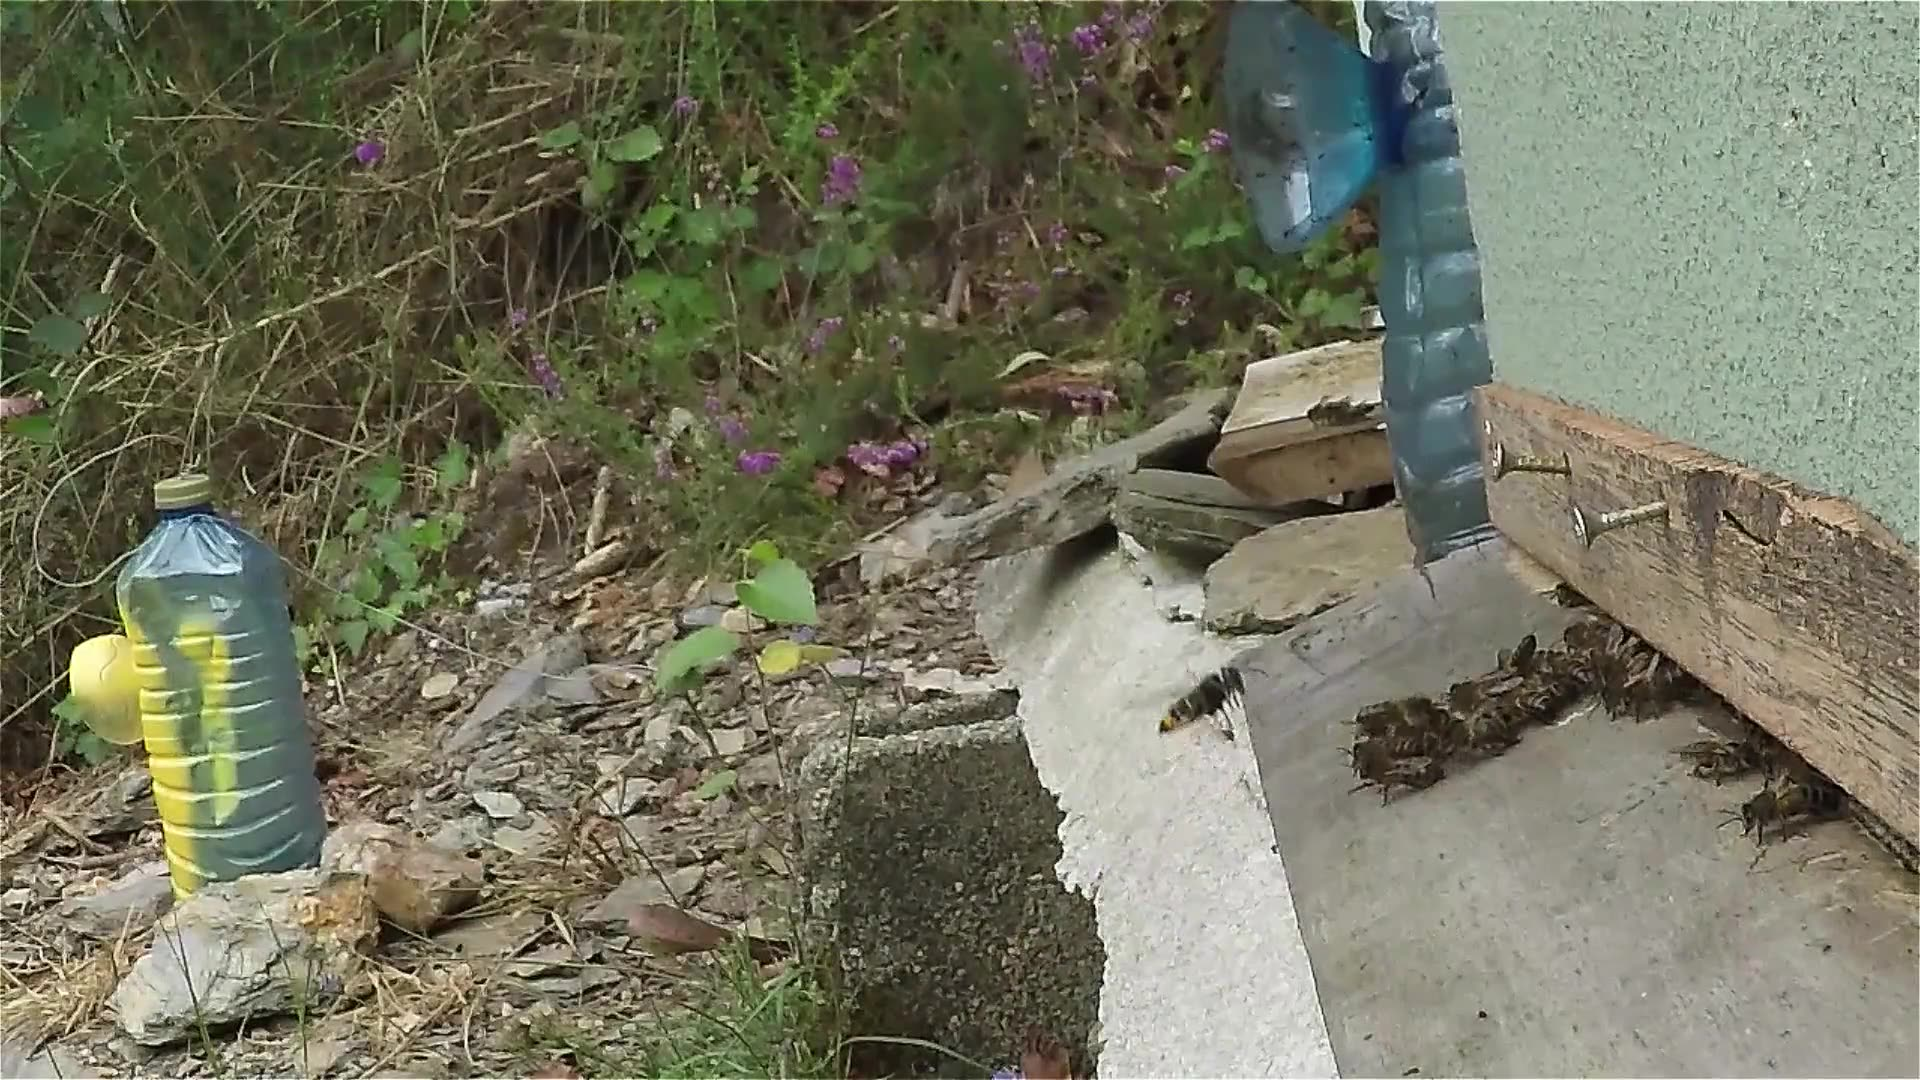bee: (1327, 669, 1534, 808), (1519, 579, 1708, 727), (1725, 758, 1861, 840), (1677, 720, 1778, 783)
hornet: (1151, 653, 1265, 745)
